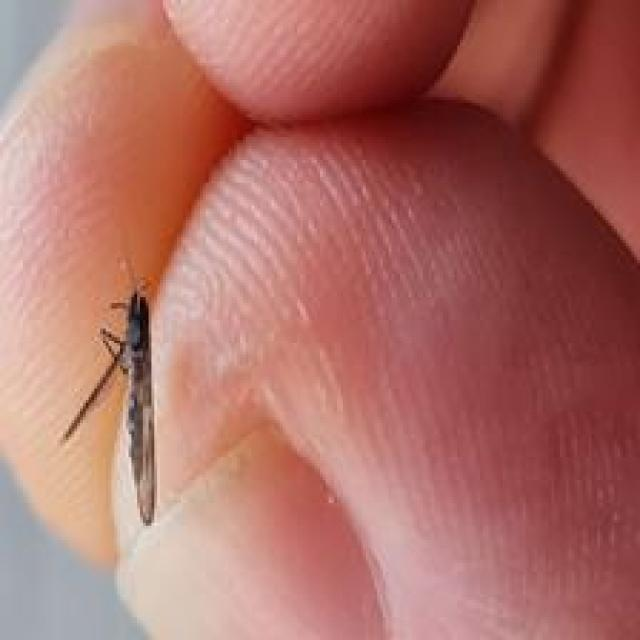Aedes albopictus: (60, 257, 160, 526)
